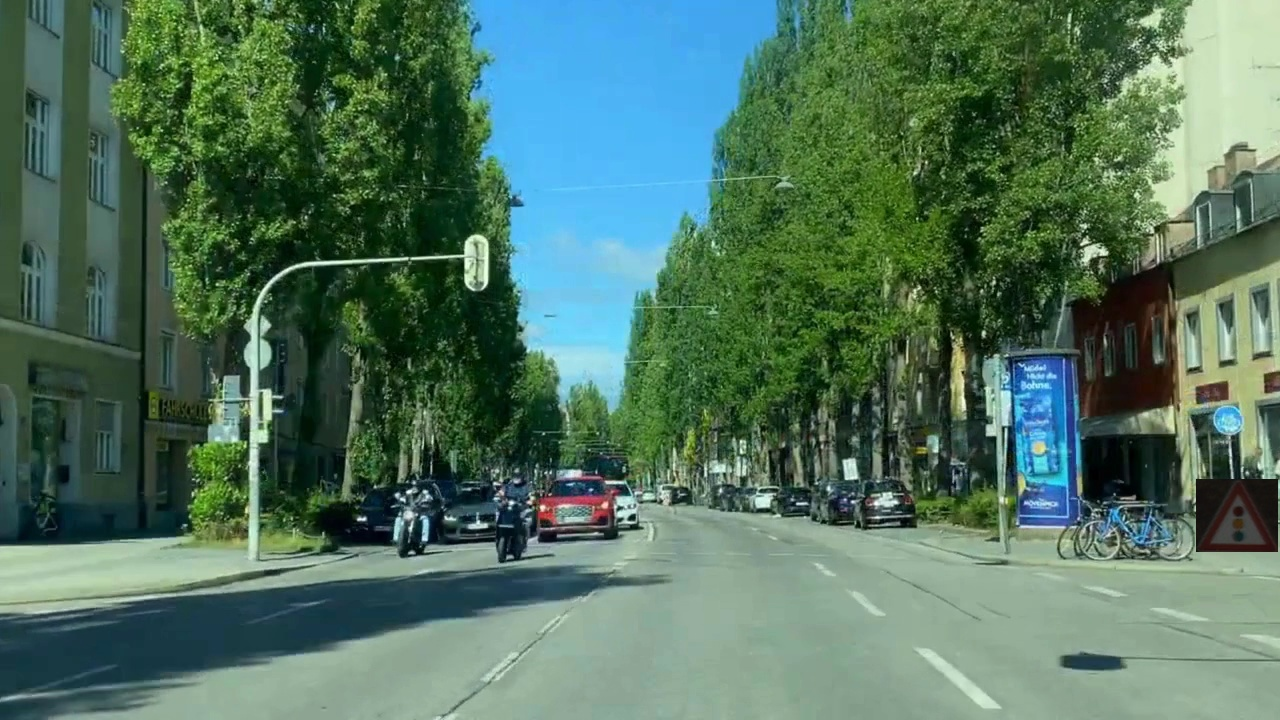Signals: (1196, 479, 1278, 552)
